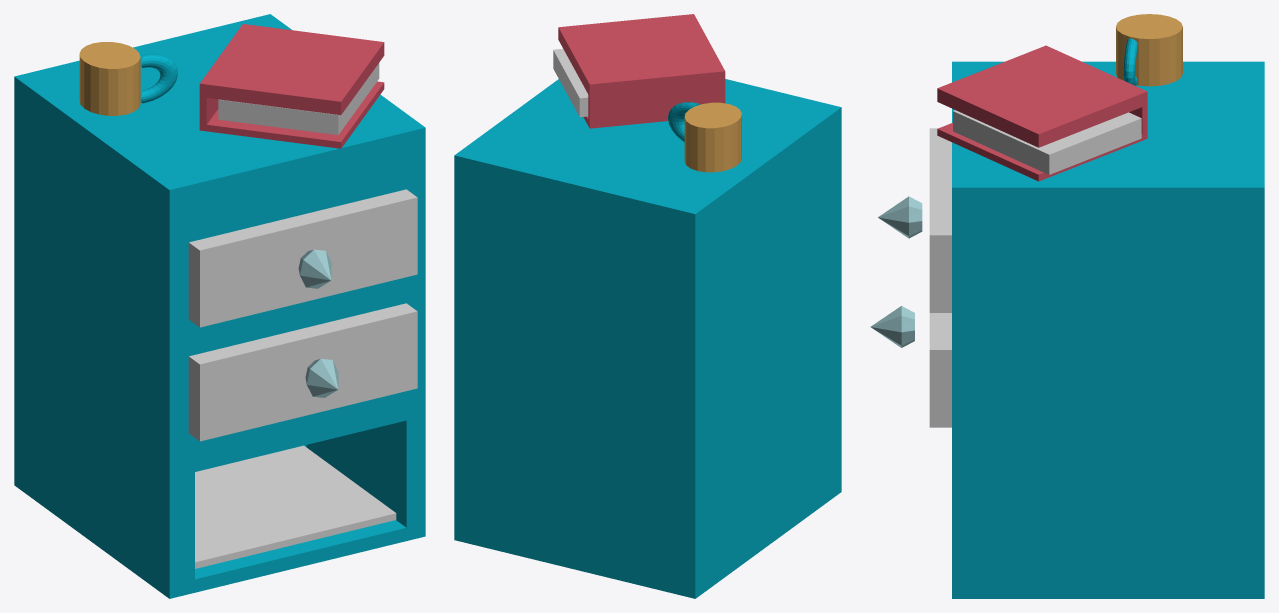
The model's file is Funky Jaiks.glb.
3 views of the same model, side by side, from view 1: azimuth 30°, elevation 25°; view 2: azimuth 150°, elevation 25°; view 3: azimuth 270°, elevation 25° (orthographic). The views are drawn at different scales.
Visible parts, largest first — view 1: Mesh_Mesh_head_geo.001_lambert2SG.001; view 2: Mesh_Mesh_head_geo.001_lambert2SG.001; view 3: Mesh_Mesh_head_geo.001_lambert2SG.001.
Boxes of the visible parts, box(x1,y1,x2,y2) form: Mesh_Mesh_head_geo.001_lambert2SG.001: box(14, 14, 425, 598); Mesh_Mesh_head_geo.001_lambert2SG.001: box(454, 14, 841, 598); Mesh_Mesh_head_geo.001_lambert2SG.001: box(870, 14, 1264, 598).
Bounding box in the file's own units: 40.32 × 69 × 53.
